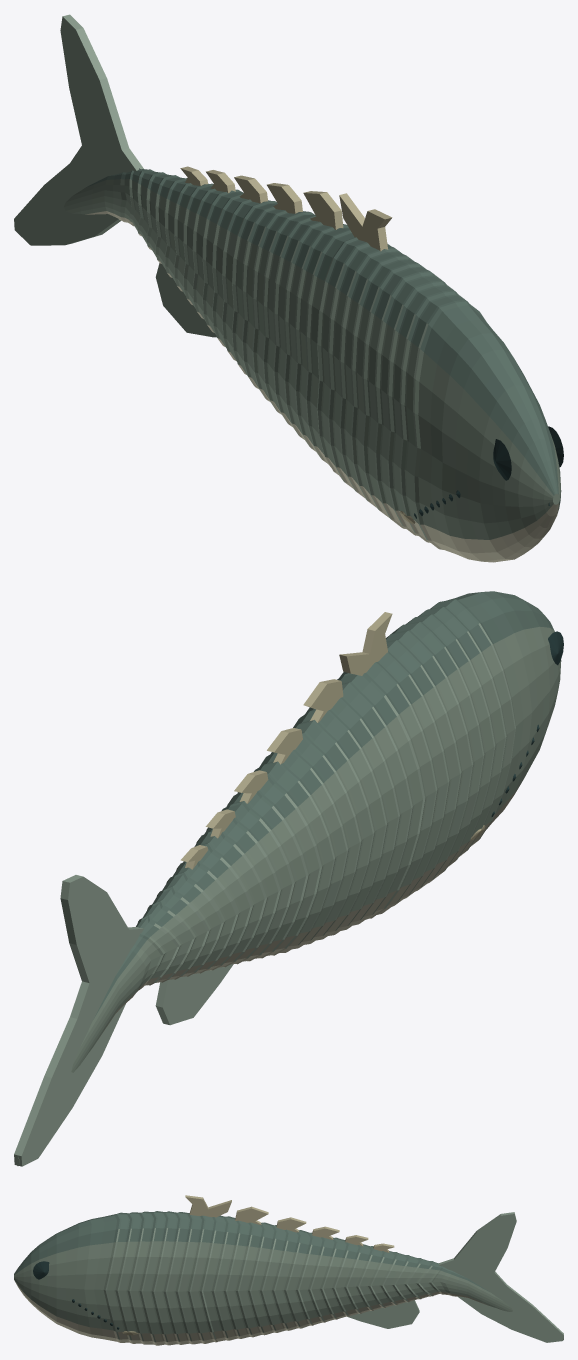
3 views of the same model, one above another, from view 1: azimuth 30°, elevation 25°; view 2: azimuth 150°, elevation 25°; view 3: azimuth 270°, elevation 25° (orthographic). The views are drawn at different scales.
Parts seen in each view (by area): view 1: 01-integrated-oblique-armor-body-and-lower-axial-tail, 02-hypocercal-caudal-fin, 03-short-unpaired-anal-fin, 04-dorsal-ridge-double-headed, 04-dorsal-ridge-2, 04-dorsal-ridge-3; view 2: 01-integrated-oblique-armor-body-and-lower-axial-tail, 02-hypocercal-caudal-fin, 03-short-unpaired-anal-fin, 04-dorsal-ridge-double-headed, 04-dorsal-ridge-2, 04-dorsal-ridge-3; view 3: 01-integrated-oblique-armor-body-and-lower-axial-tail, 02-hypocercal-caudal-fin, 03-short-unpaired-anal-fin, 04-dorsal-ridge-double-headed, 04-dorsal-ridge-2, 04-dorsal-ridge-3, 04-dorsal-ridge-4, 05-R-embedded-lateral-eye.
Part boxes in pixels (box(x1,y1,x2,y2)): 01-integrated-oblique-armor-body-and-lower-axial-tail: box(63, 168, 561, 562); 02-hypocercal-caudal-fin: box(14, 14, 143, 245); 03-short-unpaired-anal-fin: box(155, 263, 216, 337); 04-dorsal-ridge-double-headed: box(339, 193, 392, 251); 04-dorsal-ridge-2: box(303, 191, 343, 229); 04-dorsal-ridge-3: box(267, 183, 302, 213); 01-integrated-oblique-armor-body-and-lower-axial-tail: box(16, 591, 561, 1165); 02-hypocercal-caudal-fin: box(14, 875, 143, 1166); 03-short-unpaired-anal-fin: box(155, 964, 233, 1025); 04-dorsal-ridge-double-headed: box(339, 612, 392, 675); 04-dorsal-ridge-2: box(303, 679, 343, 722); 04-dorsal-ridge-3: box(267, 728, 302, 764); 01-integrated-oblique-armor-body-and-lower-axial-tail: box(14, 1211, 563, 1345); 02-hypocercal-caudal-fin: box(439, 1212, 563, 1342); 03-short-unpaired-anal-fin: box(347, 1300, 419, 1328); 04-dorsal-ridge-double-headed: box(185, 1195, 231, 1217); 04-dorsal-ridge-2: box(235, 1206, 268, 1224); 04-dorsal-ridge-3: box(276, 1217, 306, 1232); 04-dorsal-ridge-4: box(312, 1226, 339, 1239); 05-R-embedded-lateral-eye: box(33, 1261, 49, 1279).
Bounding box in the file's own units: 0.00921 × 0.0238 × 0.08.
